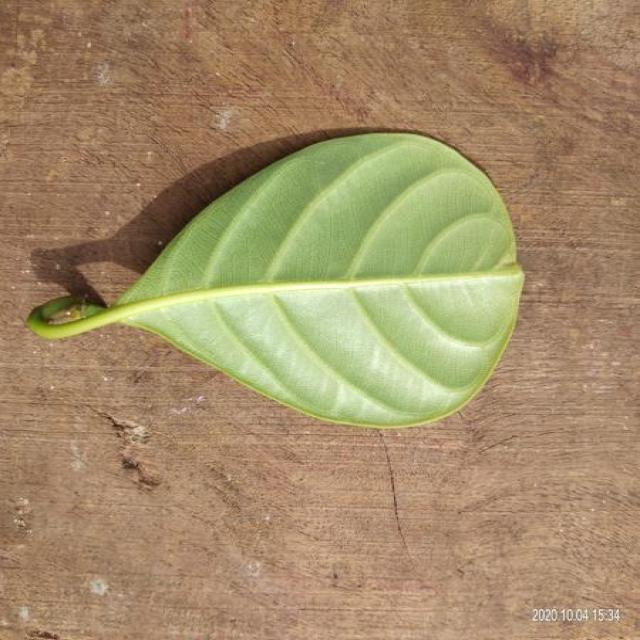Jackfruit: (52, 132, 523, 427)
